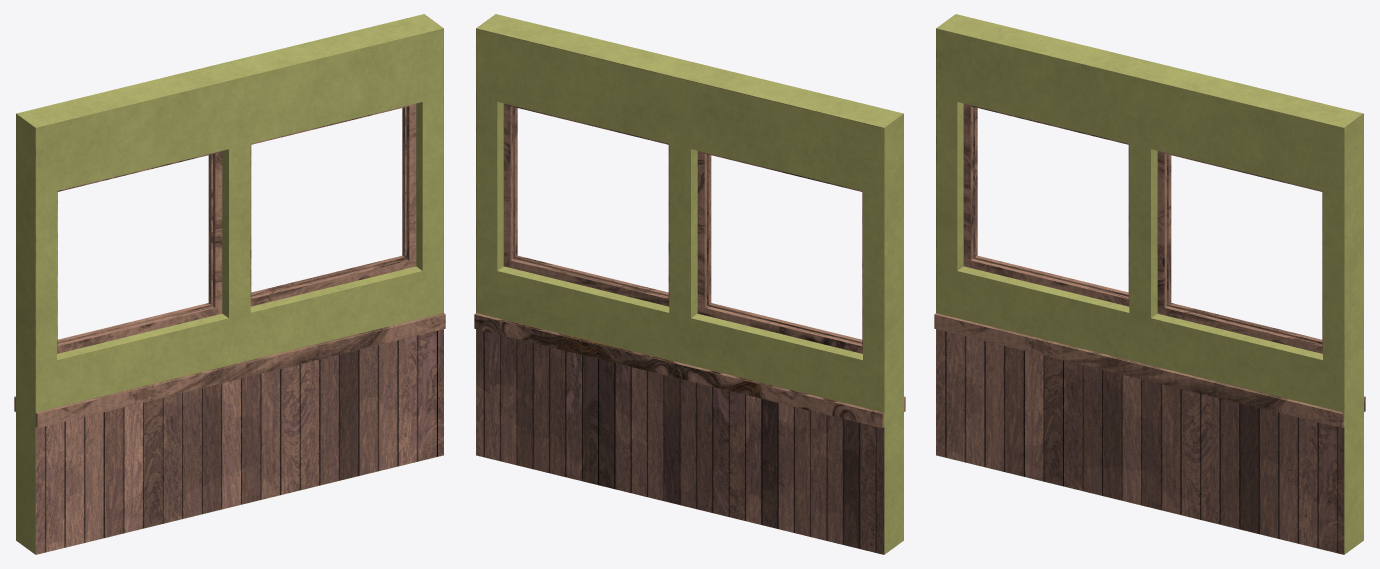
The model's file is MediumWindow.fbx.
The picture shows the model from 3 angles, left to right: view 1: azimuth 30°, elevation 25°; view 2: azimuth 150°, elevation 25°; view 3: azimuth 330°, elevation 25°; orthographic projection.
Parts seen in each view (by area): view 1: MediumWindow_Baked; view 2: MediumWindow_Baked; view 3: MediumWindow_Baked.
Boxes of the visible parts, x1,y1,x2,y2 form: MediumWindow_Baked: (14,14,445,554); MediumWindow_Baked: (474,14,905,554); MediumWindow_Baked: (934,14,1365,554).
Size of the model in its own units: 300 by 300 by 30.
Materials: 1 (1 with a texture image).
